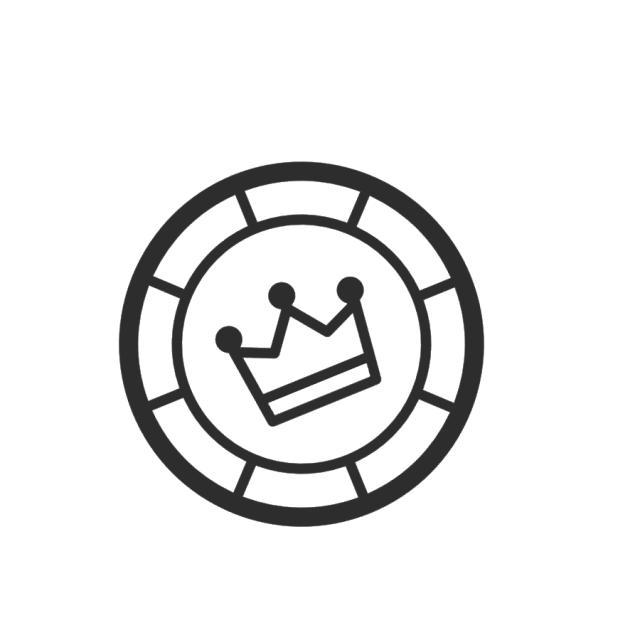coin: (114, 154, 491, 538)
